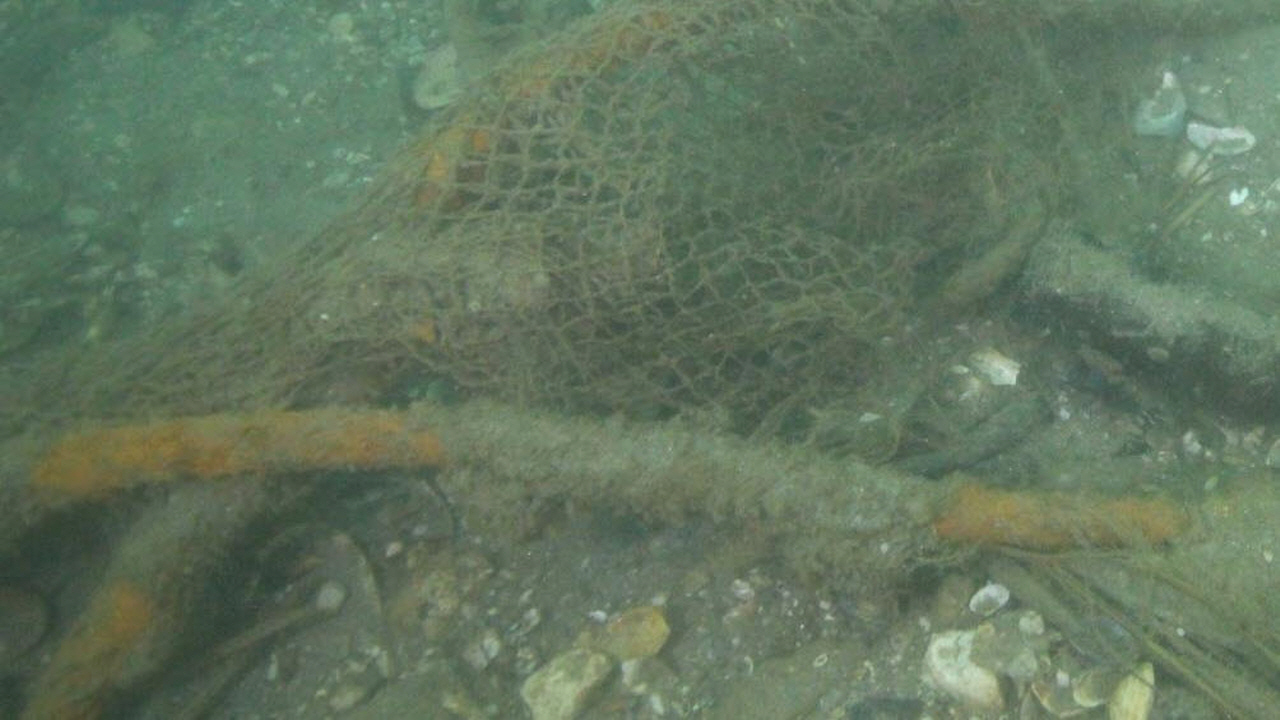fish net: (54, 0, 979, 465)
